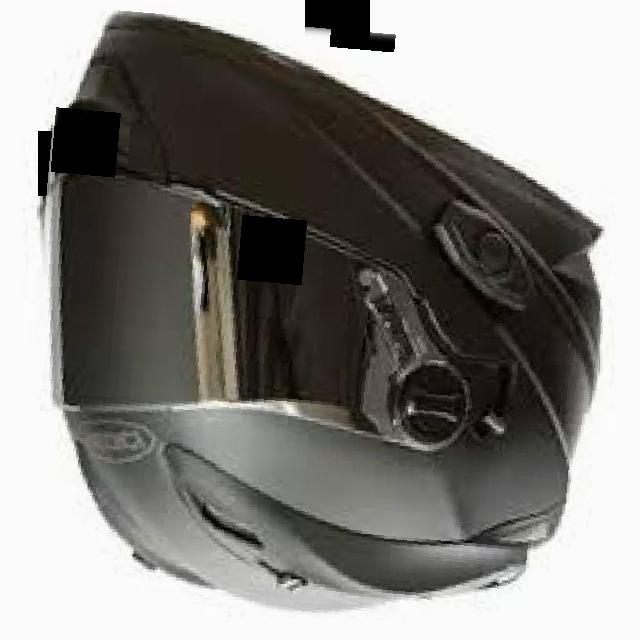helmet: (24, 17, 613, 626)
